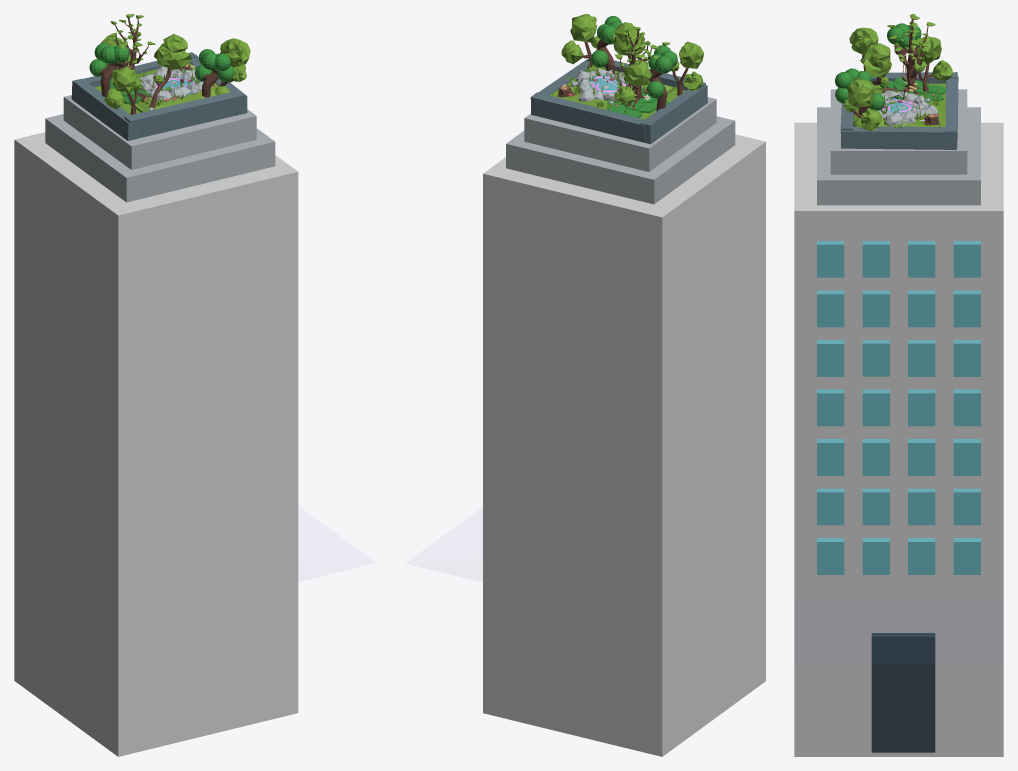
The picture shows the model from 3 angles, left to right: view 1: azimuth 30°, elevation 25°; view 2: azimuth 150°, elevation 25°; view 3: azimuth 270°, elevation 25°; orthographic projection.
Visible parts, largest first — view 1: node_MeshObject623738752-PolyPaper16, node_MeshObject2117791872-PolyPaper9, node_MeshObject-2140390144-PolyPaper20, node_MeshObject-1668327808-PolyPaper7, node_MeshObject1635857088-PolyPaper20, node_MeshObject96196224-PolyPaper20, node_MeshObject551759232-PolyPaper21; view 2: node_MeshObject623738752-PolyPaper16, node_MeshObject-2140390144-PolyPaper20, node_MeshObject1635857088-PolyPaper20, node_MeshObject2117791872-PolyPaper9, node_MeshObject96196224-PolyPaper20, node_MeshObject-1668327808-PolyPaper7, node_MeshObject551759232-PolyPaper21; view 3: node_MeshObject623738752-PolyPaper16, node_MeshObject2117791872-PolyPaper9, node_MeshObject-2140390144-PolyPaper20, node_MeshObject1635857088-PolyPaper20, node_MeshObject96196224-PolyPaper20, node_MeshObject-1668327808-PolyPaper7, node_MeshObject551759232-PolyPaper21.
Boxes of the visible parts, x1=… form: node_MeshObject623738752-PolyPaper16: x1=14, y1=43, x2=298, y2=756; node_MeshObject2117791872-PolyPaper9: x1=112, y1=57, x2=247, y2=138; node_MeshObject-2140390144-PolyPaper20: x1=89, y1=14, x2=184, y2=103; node_MeshObject-1668327808-PolyPaper7: x1=149, y1=34, x2=192, y2=107; node_MeshObject1635857088-PolyPaper20: x1=100, y1=35, x2=216, y2=102; node_MeshObject96196224-PolyPaper20: x1=146, y1=38, x2=250, y2=110; node_MeshObject551759232-PolyPaper21: x1=124, y1=66, x2=203, y2=100; node_MeshObject623738752-PolyPaper16: x1=483, y1=16, x2=765, y2=756; node_MeshObject-2140390144-PolyPaper20: x1=607, y1=26, x2=670, y2=117; node_MeshObject1635857088-PolyPaper20: x1=576, y1=50, x2=677, y2=107; node_MeshObject2117791872-PolyPaper9: x1=538, y1=41, x2=705, y2=113; node_MeshObject96196224-PolyPaper20: x1=561, y1=14, x2=665, y2=87; node_MeshObject-1668327808-PolyPaper7: x1=557, y1=22, x2=645, y2=97; node_MeshObject551759232-PolyPaper21: x1=568, y1=67, x2=649, y2=101; node_MeshObject623738752-PolyPaper16: x1=794, y1=26, x2=1003, y2=756; node_MeshObject2117791872-PolyPaper9: x1=840, y1=27, x2=945, y2=149; node_MeshObject-2140390144-PolyPaper20: x1=879, y1=14, x2=945, y2=102; node_MeshObject1635857088-PolyPaper20: x1=866, y1=23, x2=953, y2=122; node_MeshObject96196224-PolyPaper20: x1=844, y1=78, x2=905, y2=130; node_MeshObject-1668327808-PolyPaper7: x1=861, y1=43, x2=939, y2=125; node_MeshObject551759232-PolyPaper21: x1=878, y1=83, x2=939, y2=119.
Size of the model in its own units: 0.33 by 0.8326 by 0.23.
